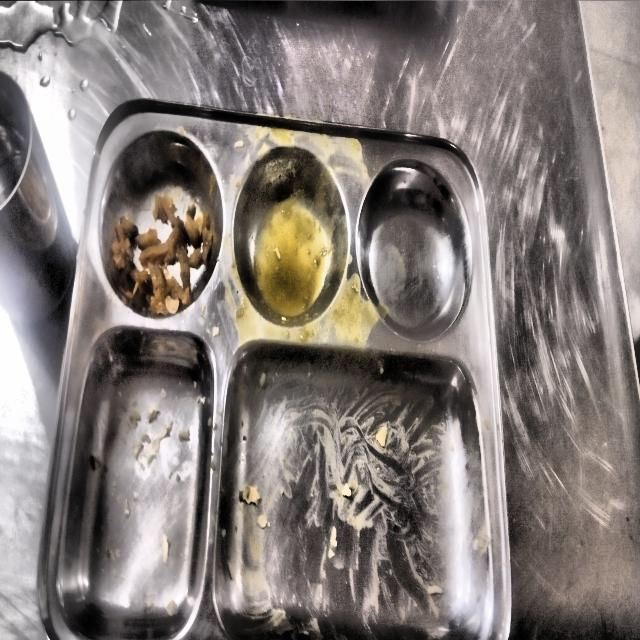gajar-aloo: (98, 130, 224, 319)
